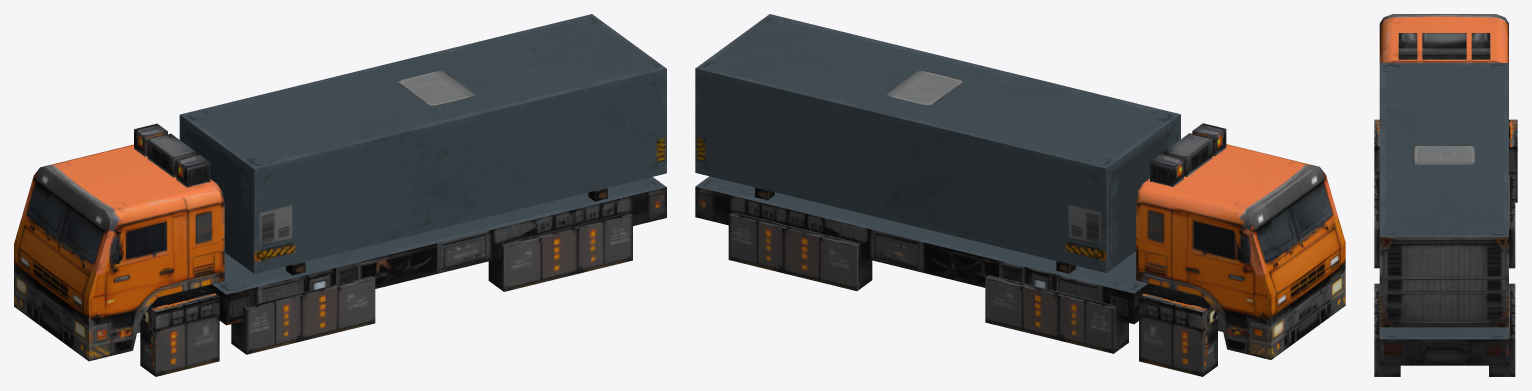
Rendered from CP_Air_Traffic_Truck.fbx.
3 renders of one model, left to right at view 1: azimuth 30°, elevation 25°; view 2: azimuth 150°, elevation 25°; view 3: azimuth 270°, elevation 25°, orthographic. The views are drawn at different scales.
Visible parts, largest first — view 1: CP_Air_Traffic_Truck; view 2: CP_Air_Traffic_Truck; view 3: CP_Air_Traffic_Truck.
Part boxes in pixels (x1=…): CP_Air_Traffic_Truck: x1=14, y1=14, x2=666, y2=376; CP_Air_Traffic_Truck: x1=695, y1=14, x2=1345, y2=376; CP_Air_Traffic_Truck: x1=1374, y1=14, x2=1517, y2=376.
Bounding box in the file's own units: 955 × 296 × 238.
